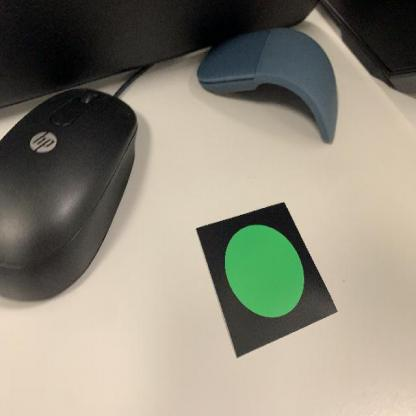go: (195, 201, 340, 361)
